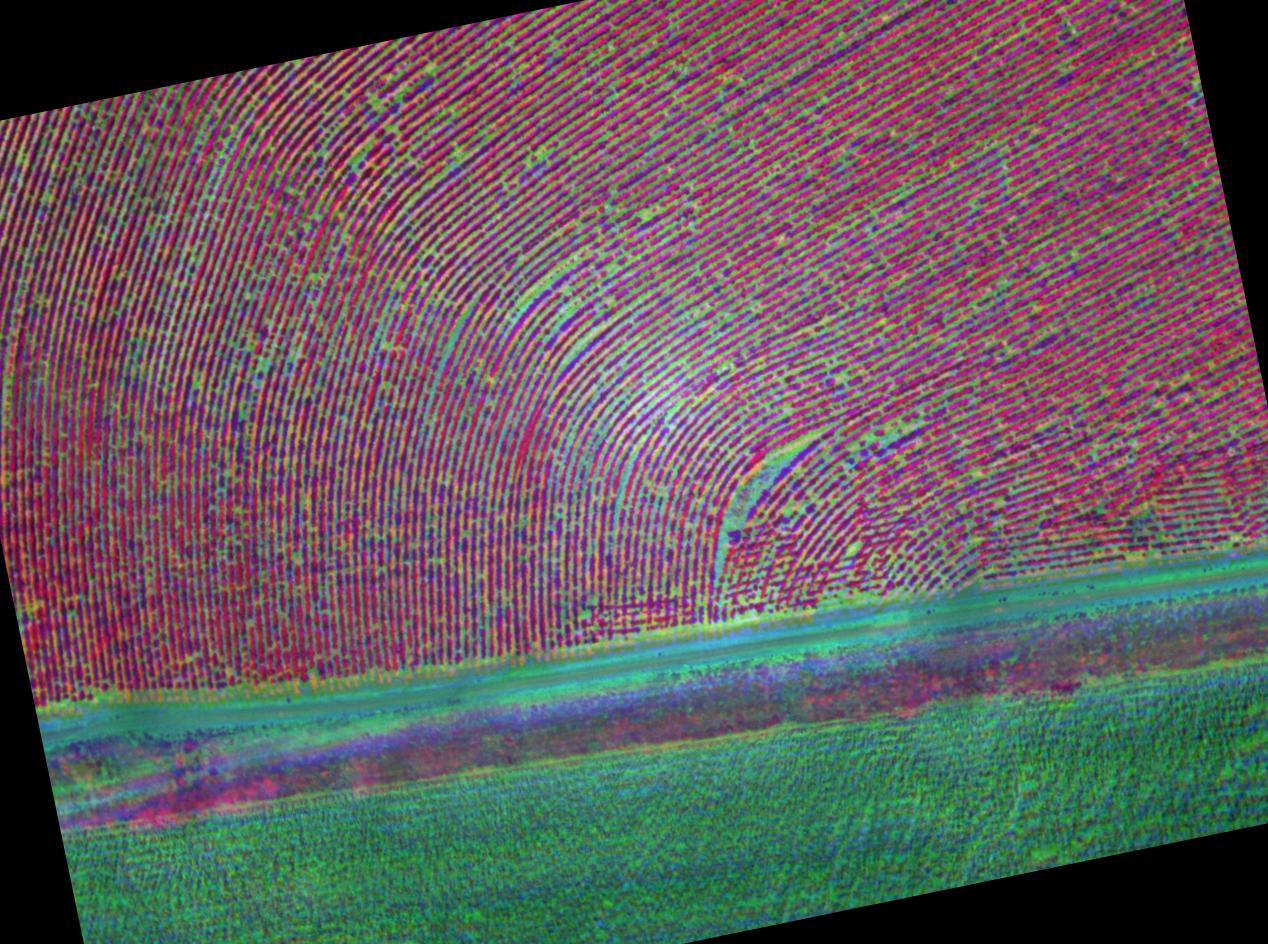dc: (491, 218, 638, 348), (671, 423, 818, 536), (136, 130, 248, 218), (181, 273, 290, 346), (348, 88, 441, 153)
